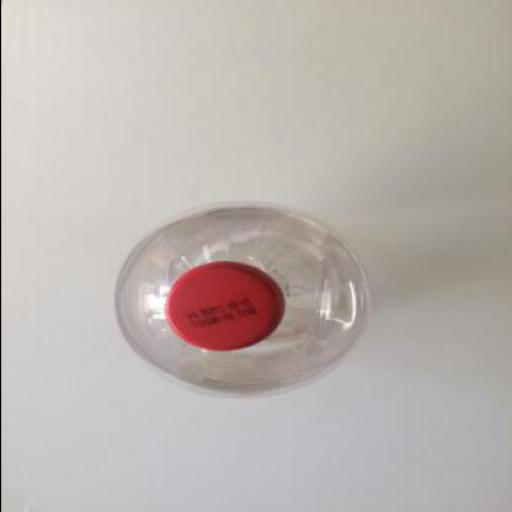plastic: (118, 204, 371, 400), (164, 262, 286, 351)
